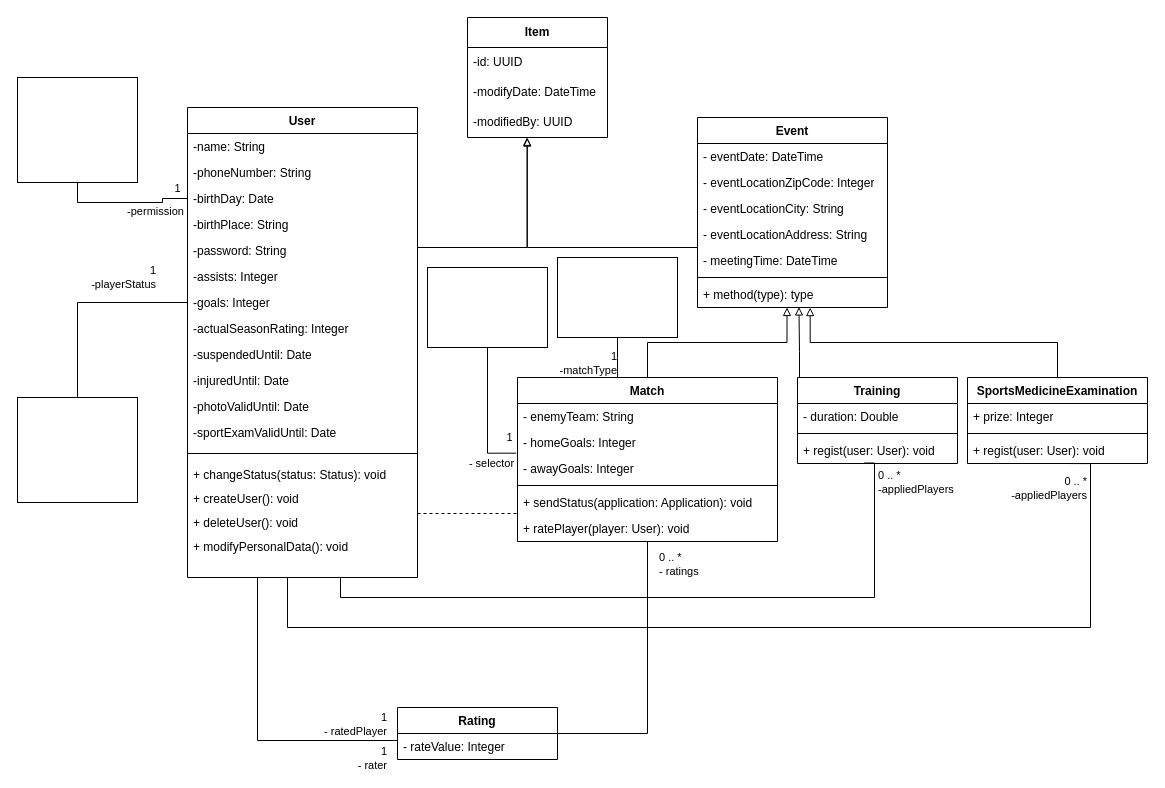
This 1165x788 diagram has some shape labels left out. Here are the shapes that lost their labels. From the top down, the centre of each, then its label:
the point at 77,129: <<Enum>> Permisson + PLAYER + LEADER + ADMIN
the point at 487,307: <<Enum>> PitchSelector + BBFC + ENEMY
the point at 617,297: <<Enum>> MatchType + CUP + LEAGUE
the point at 77,449: <<Enum>> STATUS + AVAILABLE + INJURED + SUSPENDED
